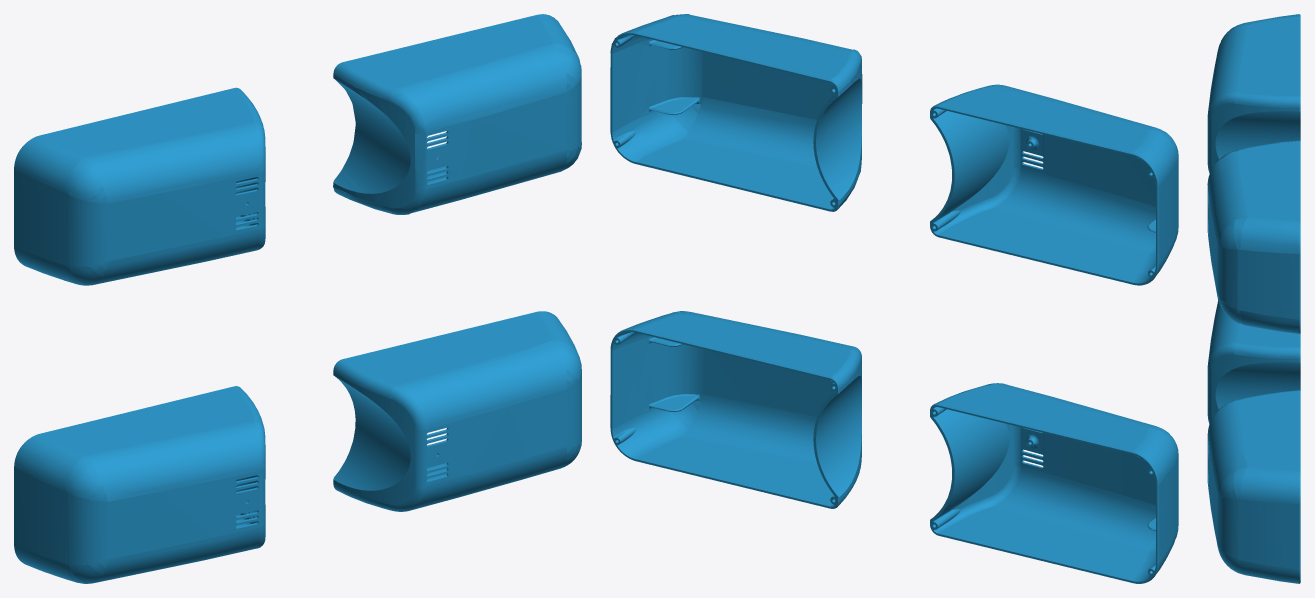
File: bluerov2_material_15.obj
The picture shows the model from 3 angles, left to right: view 1: azimuth 30°, elevation 25°; view 2: azimuth 150°, elevation 25°; view 3: azimuth 270°, elevation 25°; orthographic projection. The views are drawn at different scales.
Visible parts, largest first — view 1: bluerov2_material_15; view 2: bluerov2_material_15; view 3: bluerov2_material_15.
Part boxes in pixels (x1,y1,x2,y2): bluerov2_material_15: [14, 14, 581, 583]; bluerov2_material_15: [610, 14, 1178, 583]; bluerov2_material_15: [1207, 14, 1300, 583].
Bounding box in the file's own units: 0.4255 × 0.3188 × 0.0744.
